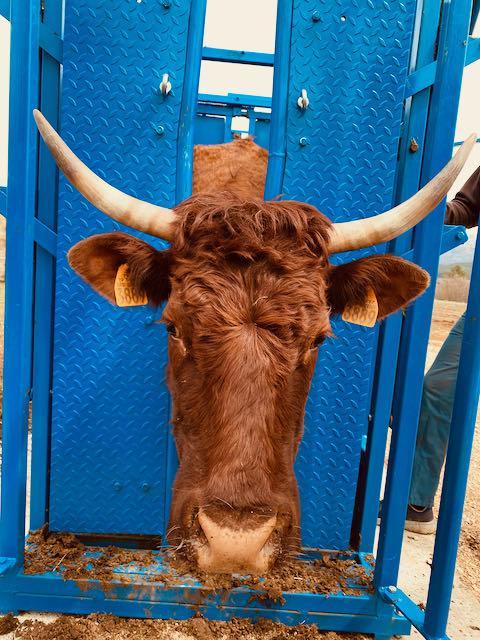muzzles: (159, 491, 301, 587)
